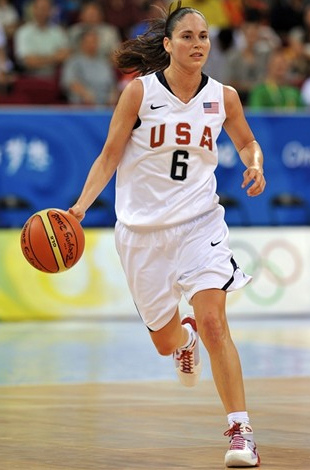basketball: (21, 209, 84, 273)
